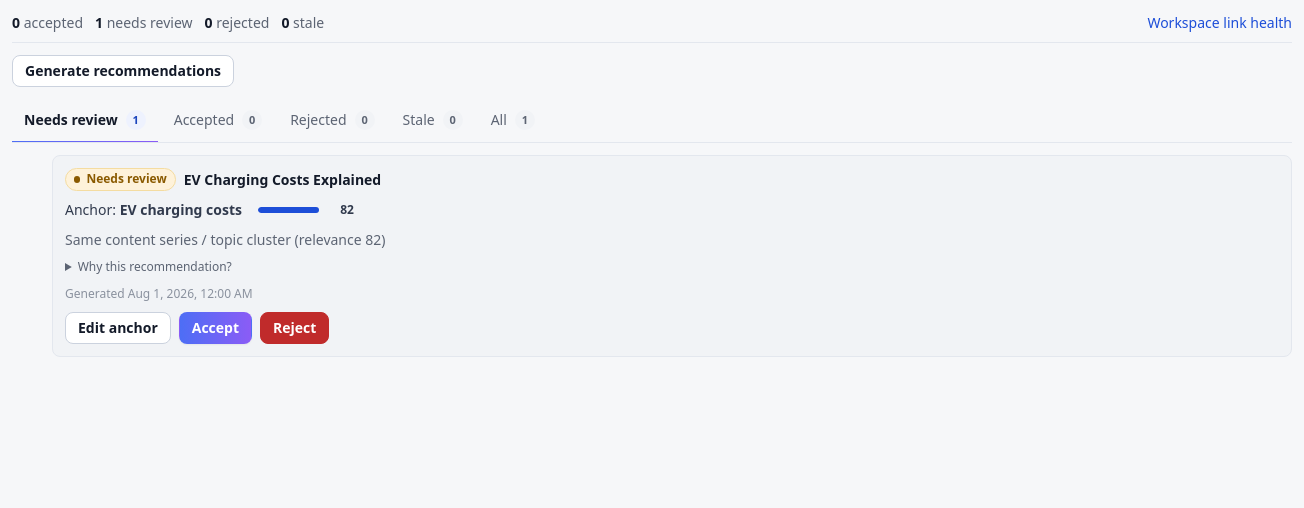
Test: InternalLinkRecommendations › reject: requires a reason, supports cancel, and keeps rejected rows visible under the Rejected filter
The width and height of the screenshot is (1304, 508).
Click the button "Reject" at (295, 328), box x1=260 y1=312 x2=329 y2=344
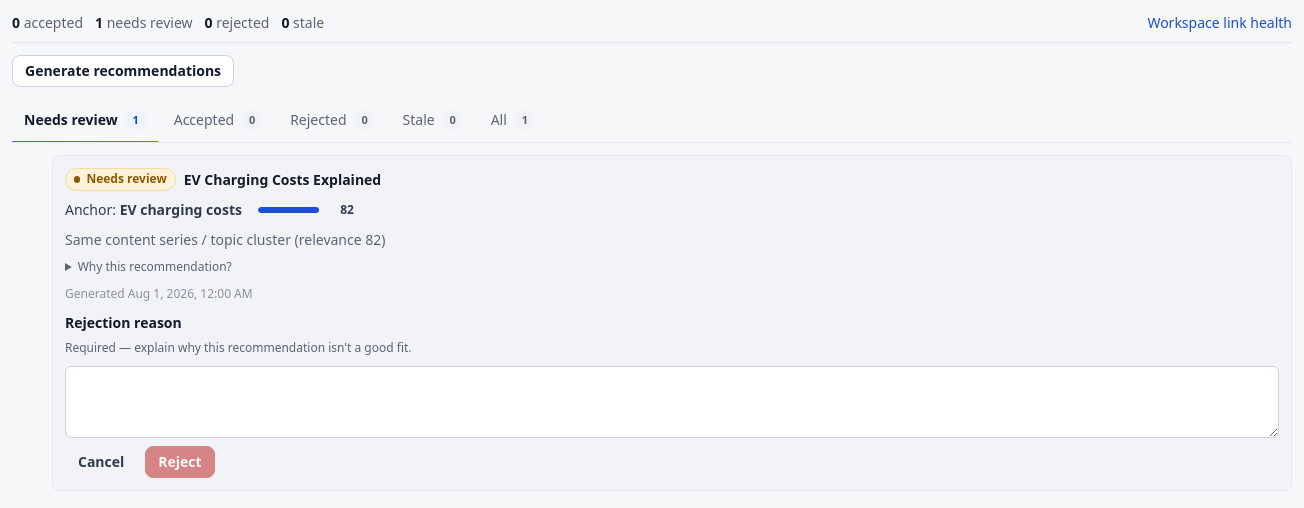
expect the button "Reject" is disabled: met, box x1=145 y1=446 x2=215 y2=478
Click the button "Cancel" at (101, 462), box x1=65 y1=446 x2=137 y2=478
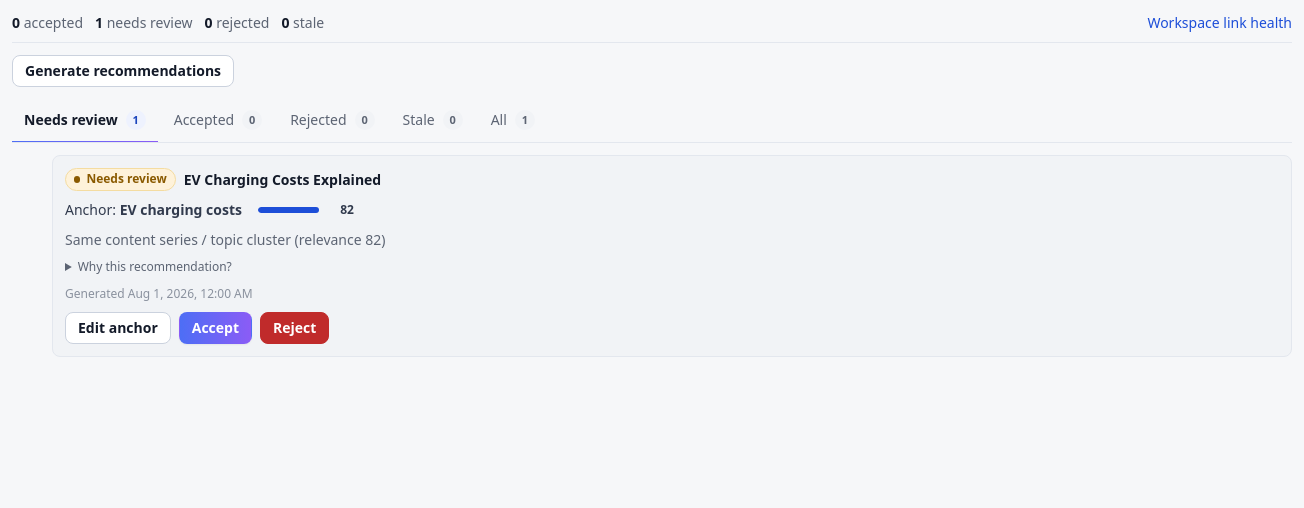
expect the label labelled "Rejection reason" is gone: met
Click the button "Reject" at (295, 328), box x1=260 y1=312 x2=329 y2=344
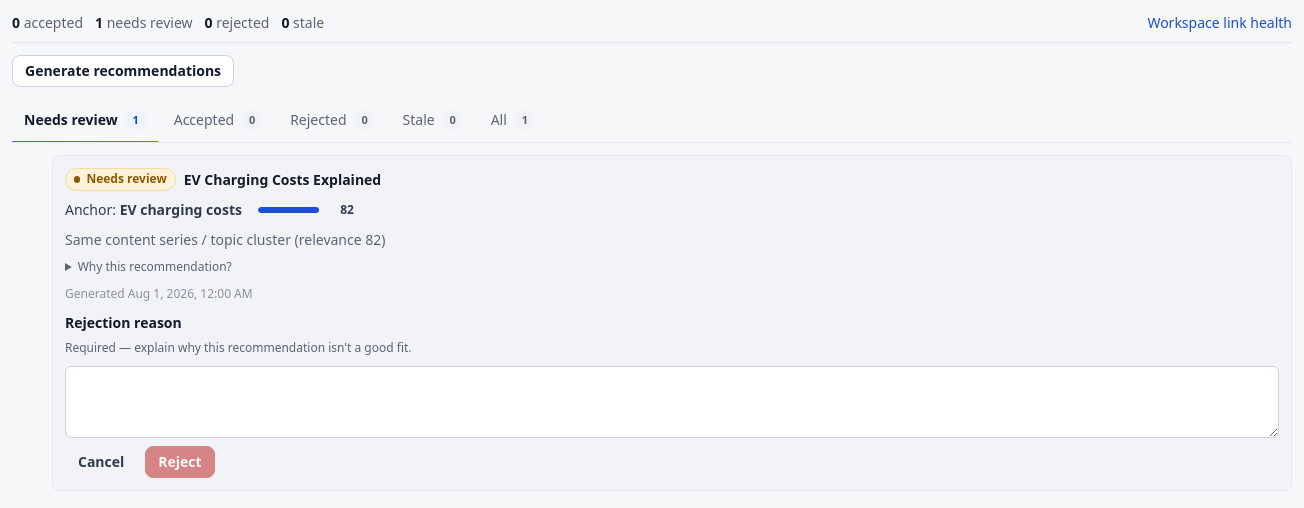
Type "Not relevant enough." into the text box labelled "Rejection reason" at (672, 402), box x1=65 y1=366 x2=1279 y2=438
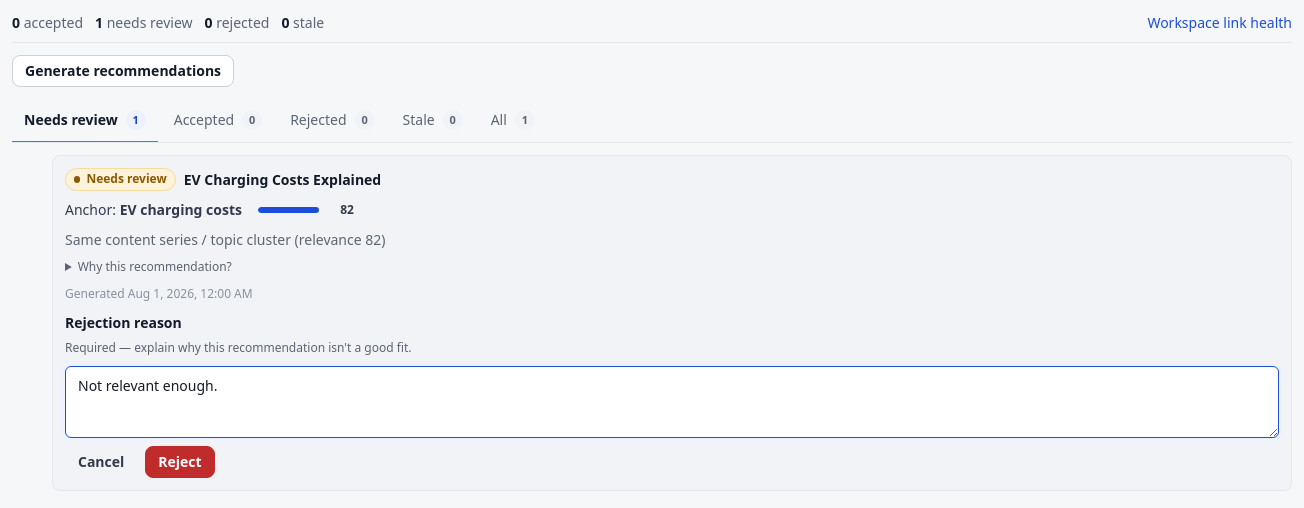
Click the button "Reject" at (180, 462), box x1=145 y1=446 x2=215 y2=478
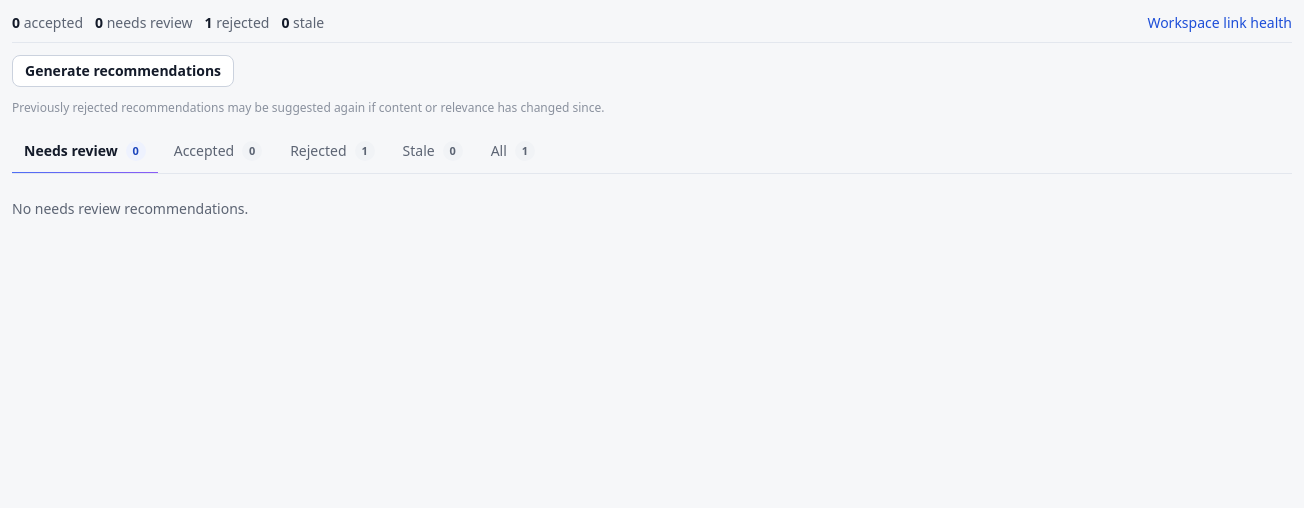
Click the tab "Rejected 1" at (332, 152), box x1=278 y1=129 x2=386 y2=174
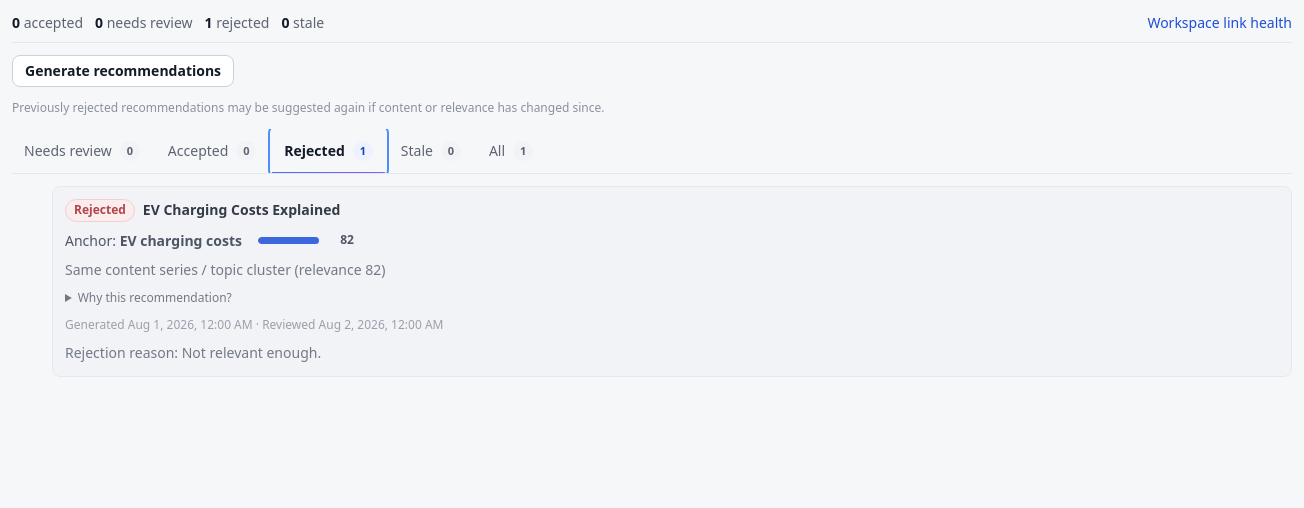
expect the text "EV Charging Costs Explained" is shown: met, box x1=143 y1=199 x2=340 y2=221
expect the text "Rejection reason: Not relevant enough." is shown: met, box x1=65 y1=343 x2=321 y2=362
